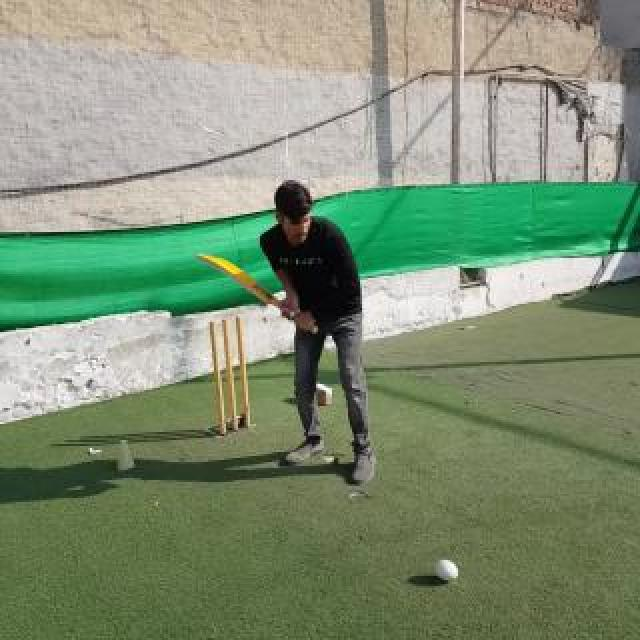ball: (436, 558, 460, 584)
bat: (196, 252, 318, 334)
